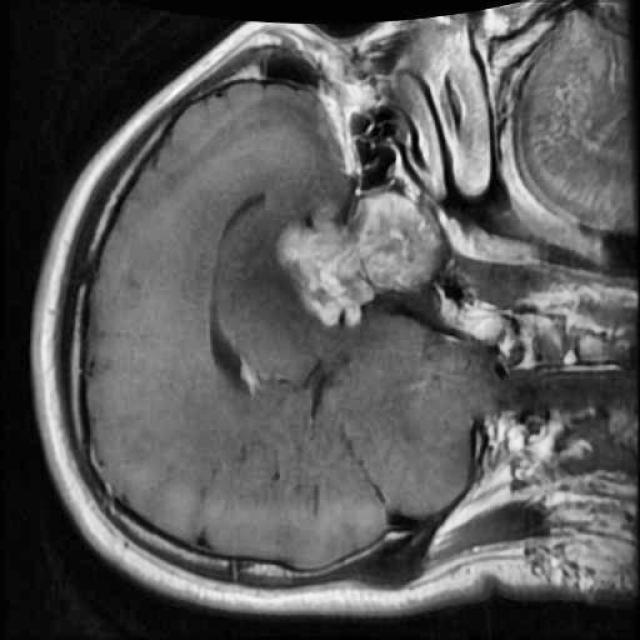Tumor: (260, 168, 452, 342)
